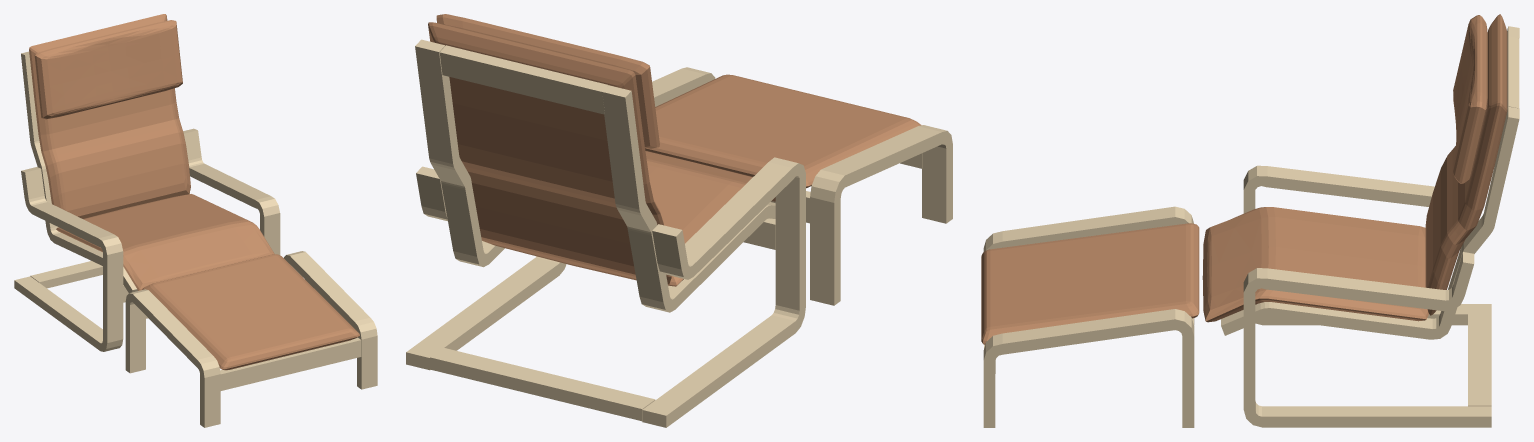
The model's file is sweethome3d-katorlegaz-armchair-ottoman-47.glb.
3 views of the same model, side by side, from view 1: azimuth 30°, elevation 25°; view 2: azimuth 150°, elevation 25°; view 3: azimuth 270°, elevation 25° (orthographic). The views are drawn at different scales.
Parts seen in each view (by area): view 1: IKEA_chair_pad_IKEA_chair_pad_Leather, IKEA_foot_cushion_IKEA_foot_cushion_Leather, IKEA_chair_frame_IKEA_chair_frame_Chair_wood, IKEA_otto_frame_IKEA_otto_frame_Chair_wood, IKEA_chair_frame_IKEA_chair_frame_Chair_wood.001; view 2: IKEA_chair_pad_IKEA_chair_pad_Leather, IKEA_chair_frame_IKEA_chair_frame_Chair_wood, IKEA_foot_cushion_IKEA_foot_cushion_Leather, IKEA_chair_frame_IKEA_chair_frame_Chair_wood.001, IKEA_otto_frame_IKEA_otto_frame_Chair_wood; view 3: IKEA_chair_pad_IKEA_chair_pad_Leather, IKEA_chair_frame_IKEA_chair_frame_Chair_wood, IKEA_foot_cushion_IKEA_foot_cushion_Leather, IKEA_otto_frame_IKEA_otto_frame_Chair_wood, IKEA_chair_frame_IKEA_chair_frame_Chair_wood.001.
Part boxes in pixels (x1,y1,x2,y2): IKEA_chair_pad_IKEA_chair_pad_Leather: [29, 14, 274, 290]; IKEA_foot_cushion_IKEA_foot_cushion_Leather: [142, 254, 359, 370]; IKEA_chair_frame_IKEA_chair_frame_Chair_wood: [14, 51, 280, 351]; IKEA_otto_frame_IKEA_otto_frame_Chair_wood: [125, 251, 377, 427]; IKEA_chair_frame_IKEA_chair_frame_Chair_wood.001: [30, 261, 128, 302]; IKEA_chair_pad_IKEA_chair_pad_Leather: [428, 14, 775, 286]; IKEA_chair_frame_IKEA_chair_frame_Chair_wood: [406, 39, 805, 427]; IKEA_foot_cushion_IKEA_foot_cushion_Leather: [645, 74, 921, 188]; IKEA_chair_frame_IKEA_chair_frame_Chair_wood.001: [430, 45, 775, 421]; IKEA_otto_frame_IKEA_otto_frame_Chair_wood: [652, 67, 952, 305]; IKEA_chair_pad_IKEA_chair_pad_Leather: [1202, 14, 1507, 322]; IKEA_chair_frame_IKEA_chair_frame_Chair_wood: [1221, 26, 1519, 427]; IKEA_foot_cushion_IKEA_foot_cushion_Leather: [981, 223, 1199, 344]; IKEA_otto_frame_IKEA_otto_frame_Chair_wood: [983, 206, 1194, 427]; IKEA_chair_frame_IKEA_chair_frame_Chair_wood.001: [1468, 36, 1519, 406].
Size of the model in its own units: 4.83 by 6.27 by 9.73.
